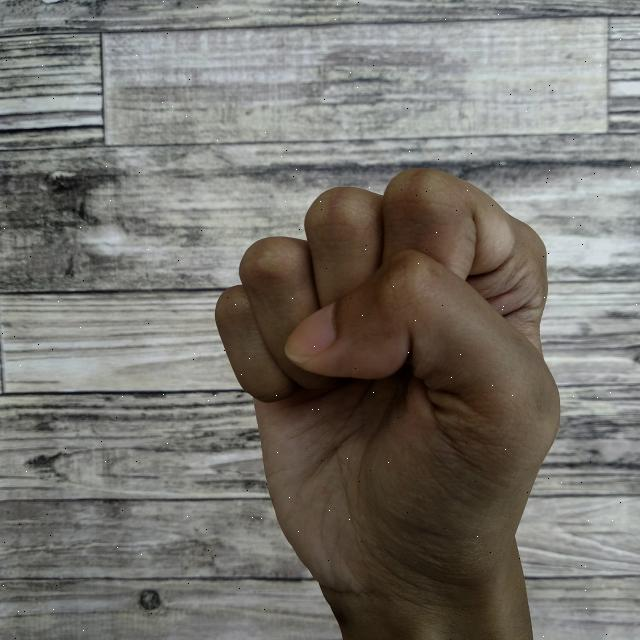S: (202, 162, 572, 640)
